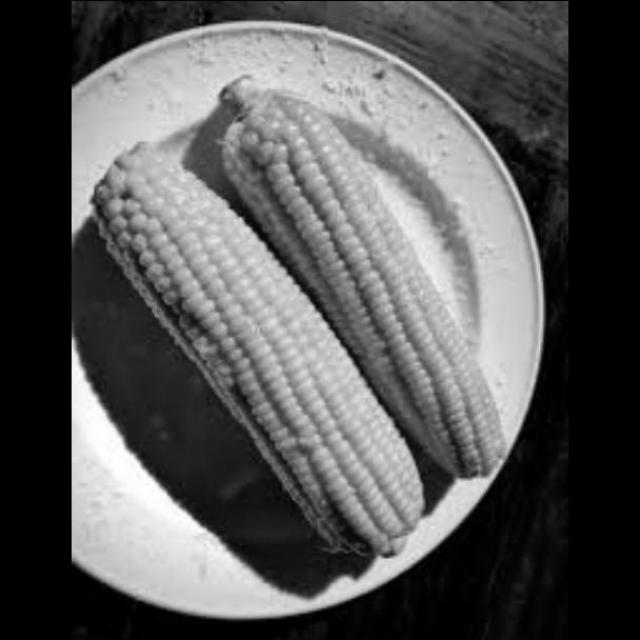ngu coc: (91, 135, 421, 564), (221, 74, 518, 482)
